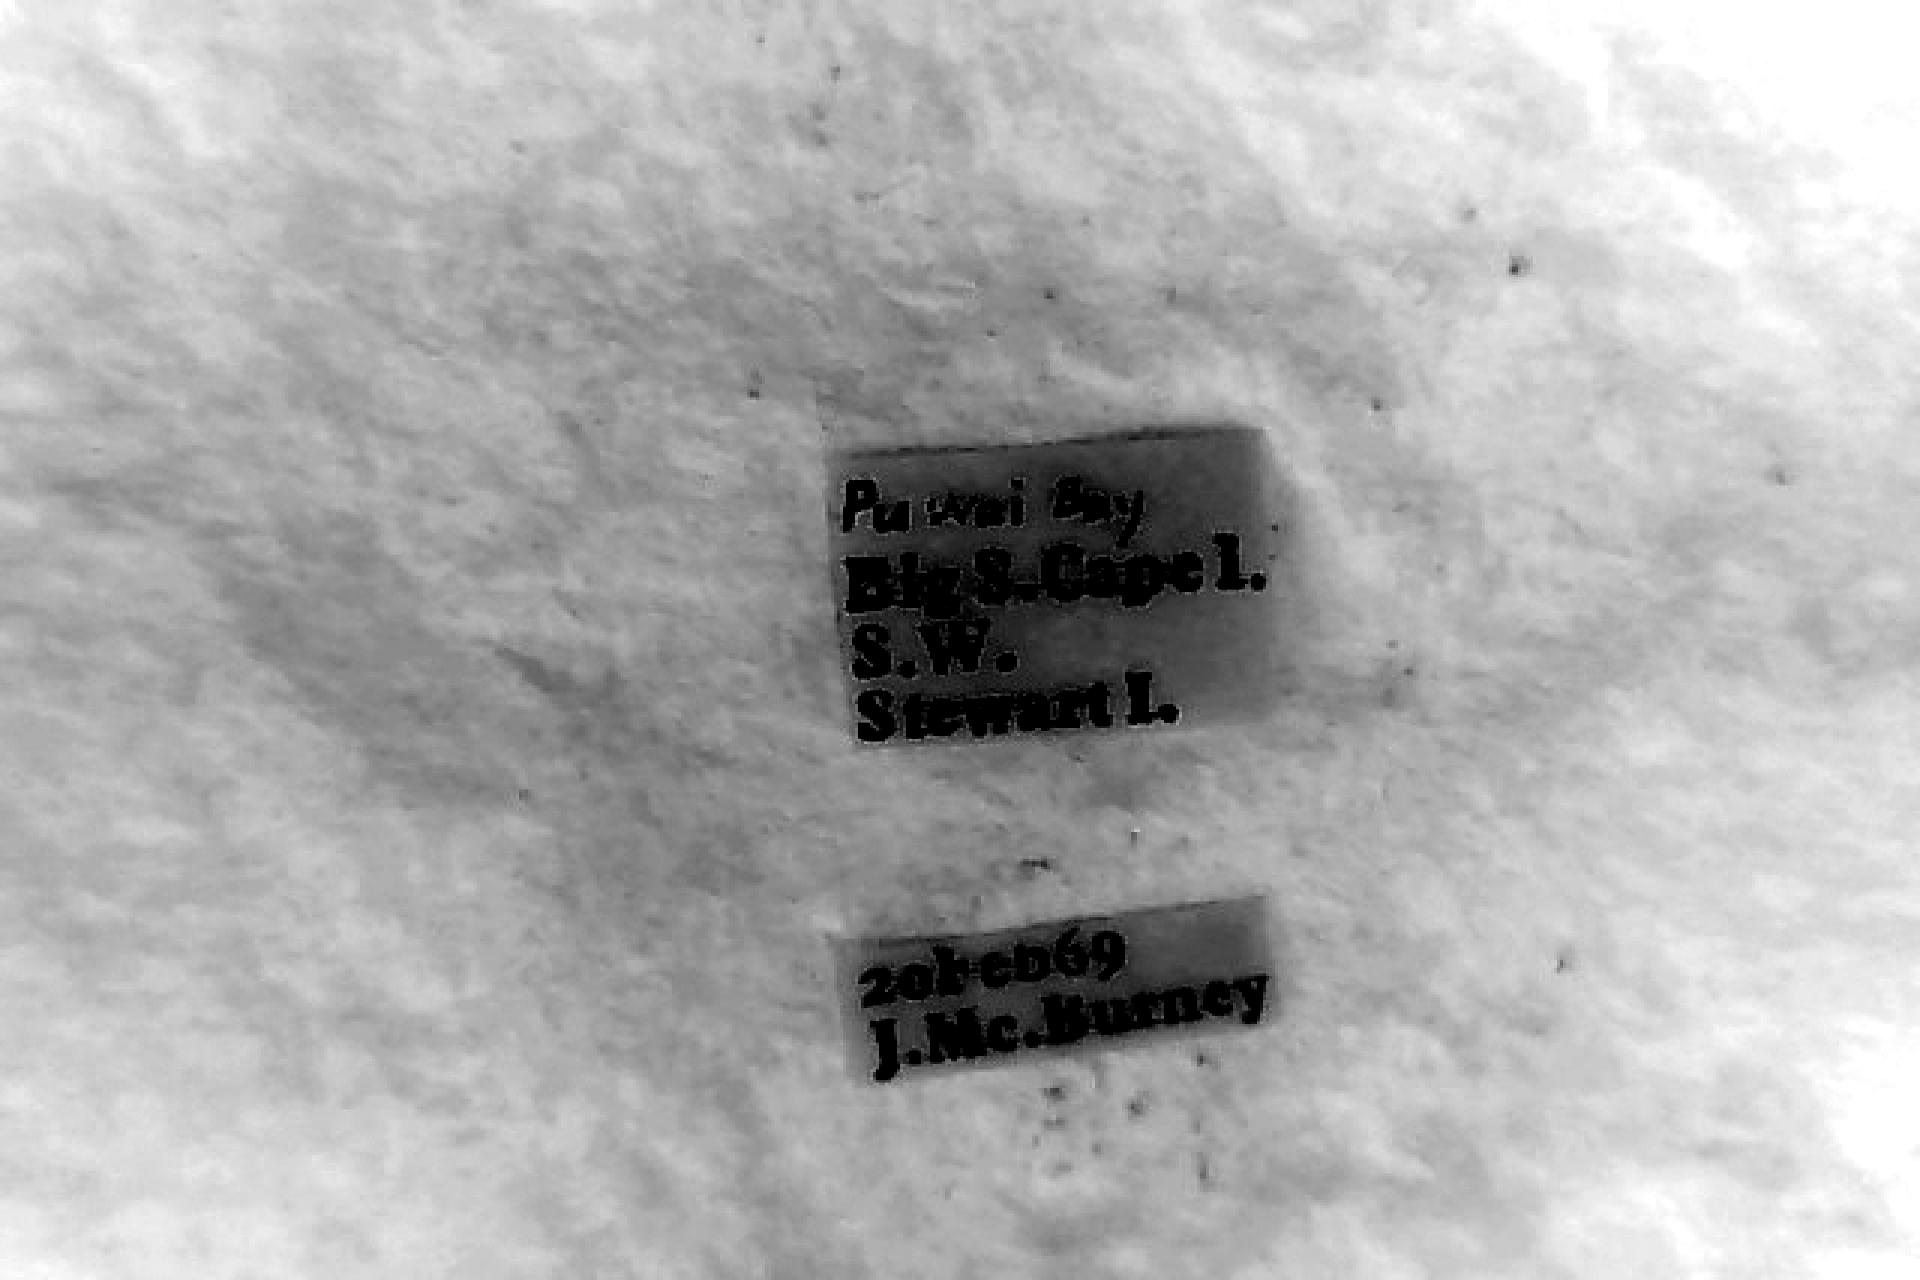mixed_label: (829, 430, 1275, 743)
typed_label: (844, 900, 1271, 1082)
